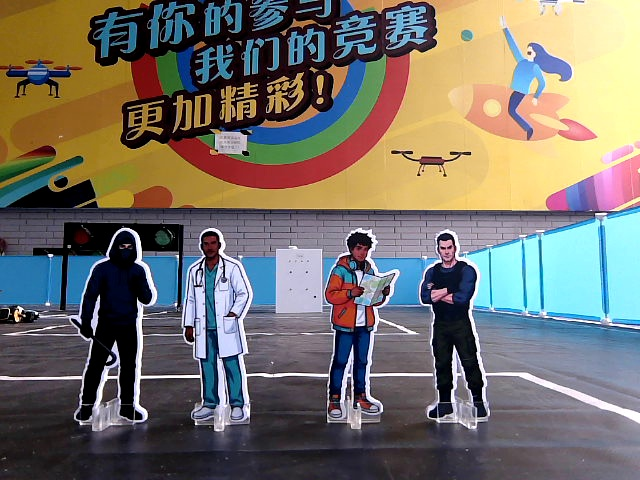community_person: (176, 219, 260, 436), (321, 225, 401, 433)
outsider: (63, 222, 164, 435), (412, 223, 499, 435)
